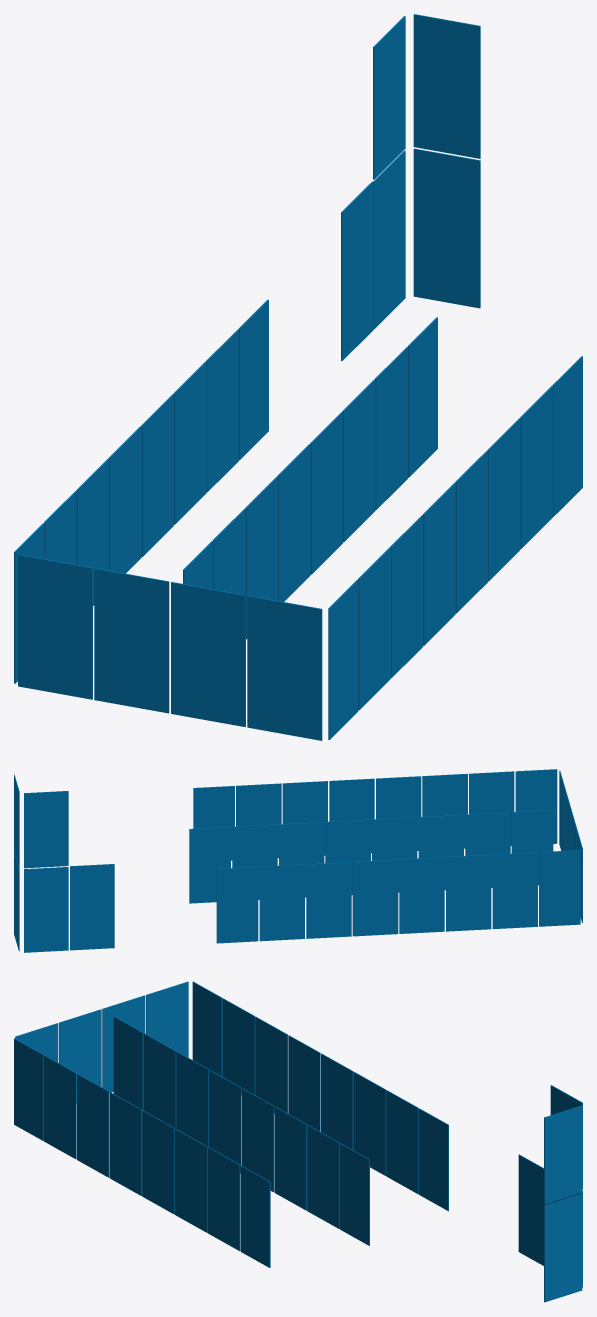
File: rac_basic_sample_project_Level_1_IfcPlate.dae
3 renders of one model, top to bottom at view 1: azimuth 30°, elevation 25°; view 2: azimuth 150°, elevation 25°; view 3: azimuth 270°, elevation 25°, orthographic. The views are drawn at different scales.
Visible parts, largest first — view 1: 3Yxgiuz3TDpeHhosGP5bD7, 2hD3j_DmLBXxhCCy1gOWOl, 2hD3j_DmLBXxhCCy1gOWOp, 2hD3j_DmLBXxhCCy1gOWH_, 2hD3j_DmLBXxhCCy1gOWOj, 3Yxgiuz3TDpeHhosGP5bBB, 1PDnLIM013wvkZO9Lb4$jv, 1PDnLIM013wvkZO9Lb4$Jp, 2hD3j_DmLBXxhCCy1gOWSm, 2hD3j_DmLBXxhCCy1gOWSi, 1PDnLIM013wvkZO9Lb4$Jo, 2hD3j_DmLBXxhCCy1gOWGQ (+21 smaller); view 2: 1PDnLIM013wvkZO9Lb4$jv, 1PDnLIM013wvkZO9Lb4$Jp, 2hD3j_DmLBXxhCCy1gOWGK, 2hD3j_DmLBXxhCCy1gOWGG, 2hD3j_DmLBXxhCCy1gOWGO, 2hD3j_DmLBXxhCCy1gOWGM, 2hD3j_DmLBXxhCCy1gOWGQ, 2hD3j_DmLBXxhCCy1gOWGI, 1PDnLIM013wvkZO9Lb4$Jo, 2hD3j_DmLBXxhCCy1gOWVZ, 2hD3j_DmLBXxhCCy1gOWGC, 3ehy5qEKD4yRz5n73KvOVP (+20 smaller); view 3: 3Yxgiuz3TDpeHhosGP5bD7, 3Yxgiuz3TDpeHhosGP5bBB, 3ehy5qEKD4yRz5n73KvOVb, 2hD3j_DmLBXxhCCy1gOWSi, 2hD3j_DmLBXxhCCy1gOWSs, 2hD3j_DmLBXxhCCy1gOWGO, 2hD3j_DmLBXxhCCy1gOWSo, 2hD3j_DmLBXxhCCy1gOWSm, 2hD3j_DmLBXxhCCy1gOWSq, 2hD3j_DmLBXxhCCy1gOWSw, 3ehy5qEKD4yRz5n73KvOVR, 2hD3j_DmLBXxhCCy1gOWGQ (+20 smaller).
Part boxes in pixels (x1,y1,x2,y2): 3Yxgiuz3TDpeHhosGP5bD7: [413, 148, 480, 308]; 2hD3j_DmLBXxhCCy1gOWOl: [94, 568, 169, 713]; 2hD3j_DmLBXxhCCy1gOWOp: [247, 595, 322, 740]; 2hD3j_DmLBXxhCCy1gOWH_: [18, 554, 92, 699]; 2hD3j_DmLBXxhCCy1gOWOj: [171, 582, 245, 726]; 3Yxgiuz3TDpeHhosGP5bBB: [413, 14, 480, 158]; 1PDnLIM013wvkZO9Lb4$jv: [341, 181, 373, 360]; 1PDnLIM013wvkZO9Lb4$Jp: [373, 150, 405, 329]; 2hD3j_DmLBXxhCCy1gOWSm: [455, 450, 488, 613]; 2hD3j_DmLBXxhCCy1gOWSi: [520, 386, 553, 548]; 1PDnLIM013wvkZO9Lb4$Jo: [373, 16, 405, 179]; 2hD3j_DmLBXxhCCy1gOWGQ: [173, 361, 206, 524]; 1PDnLIM013wvkZO9Lb4$jv: [70, 864, 114, 950]; 1PDnLIM013wvkZO9Lb4$Jp: [24, 867, 68, 952]; 2hD3j_DmLBXxhCCy1gOWGK: [352, 859, 398, 936]; 2hD3j_DmLBXxhCCy1gOWGG: [446, 854, 491, 931]; 2hD3j_DmLBXxhCCy1gOWGO: [259, 864, 304, 941]; 2hD3j_DmLBXxhCCy1gOWGM: [399, 857, 444, 933]; 2hD3j_DmLBXxhCCy1gOWGQ: [306, 862, 351, 938]; 2hD3j_DmLBXxhCCy1gOWGI: [492, 852, 537, 929]; 1PDnLIM013wvkZO9Lb4$Jo: [24, 791, 68, 868]; 2hD3j_DmLBXxhCCy1gOWVZ: [216, 866, 258, 943]; 2hD3j_DmLBXxhCCy1gOWGC: [539, 850, 580, 926]; 3ehy5qEKD4yRz5n73KvOVP: [189, 827, 230, 903]; 3Yxgiuz3TDpeHhosGP5bD7: [544, 1193, 582, 1302]; 3Yxgiuz3TDpeHhosGP5bBB: [544, 1105, 582, 1204]; 3ehy5qEKD4yRz5n73KvOVb: [274, 1106, 307, 1210]; 2hD3j_DmLBXxhCCy1gOWSi: [207, 1147, 240, 1251]; 2hD3j_DmLBXxhCCy1gOWSs: [109, 1092, 142, 1195]; 2hD3j_DmLBXxhCCy1gOWGO: [386, 1090, 418, 1194]; 2hD3j_DmLBXxhCCy1gOWSo: [175, 1128, 207, 1232]; 2hD3j_DmLBXxhCCy1gOWSm: [142, 1110, 174, 1214]; 2hD3j_DmLBXxhCCy1gOWSq: [77, 1073, 109, 1177]; 2hD3j_DmLBXxhCCy1gOWSw: [44, 1055, 76, 1159]; 3ehy5qEKD4yRz5n73KvOVR: [307, 1125, 339, 1228]; 2hD3j_DmLBXxhCCy1gOWGQ: [353, 1072, 386, 1175].
Bounding box in the file's own units: 15.32 × 15.69 × 5.62.
